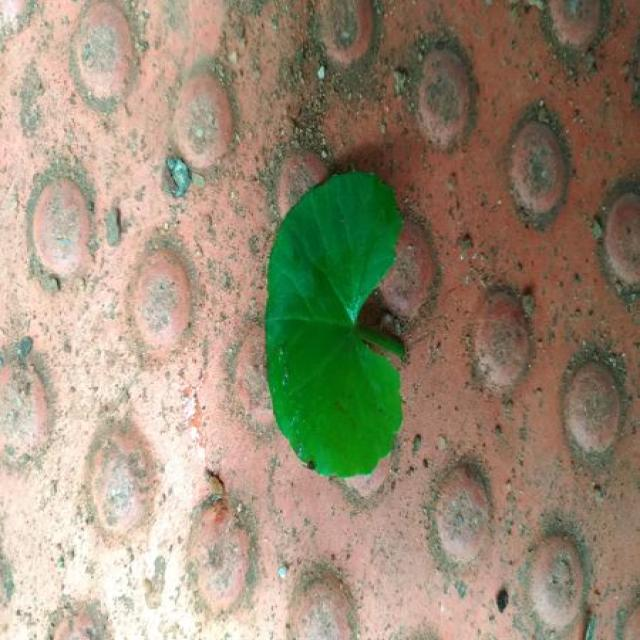bhrami: (265, 171, 403, 477)
